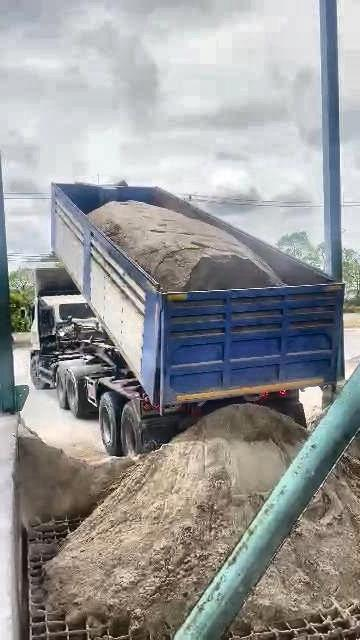sand: (47, 404, 306, 638), (235, 457, 360, 633), (88, 201, 281, 291), (18, 427, 133, 526), (308, 406, 328, 430), (347, 427, 360, 459)
